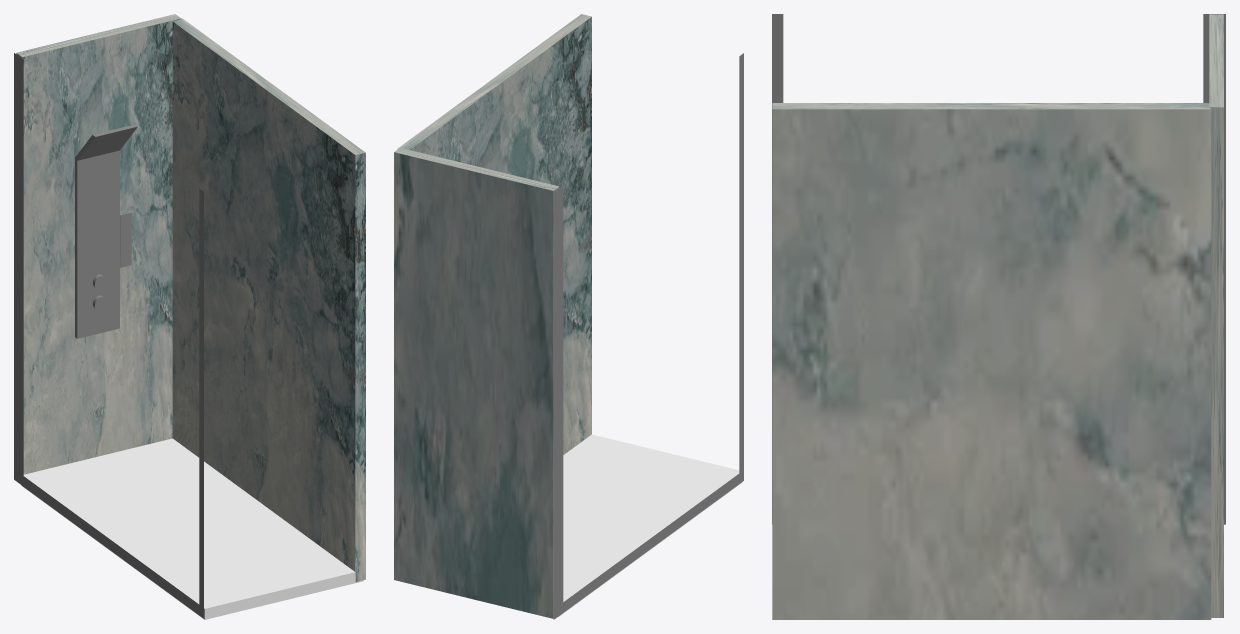
File: kinewall-3-transformed.glb
3 renders of one model, left to right at view 1: azimuth 30°, elevation 25°; view 2: azimuth 150°, elevation 25°; view 3: azimuth 270°, elevation 25°, orthographic. The views are drawn at different scales.
Parts seen in each view (by area): view 1: kinewall-back, kinewall; view 2: kinewall-back, kinewall; view 3: kinewall-back, kinewall.
Part boxes in pixels (bbox=[...]): kinewall-back: bbox=[16, 14, 365, 582]; kinewall: bbox=[14, 53, 363, 619]; kinewall-back: bbox=[394, 14, 591, 618]; kinewall: bbox=[553, 53, 743, 619]; kinewall-back: bbox=[772, 14, 1223, 619]; kinewall: bbox=[772, 14, 1225, 524].
Bounding box in the file's own units: 3.06 × 7.73 × 6.2.
4 materials, 1 textured.
